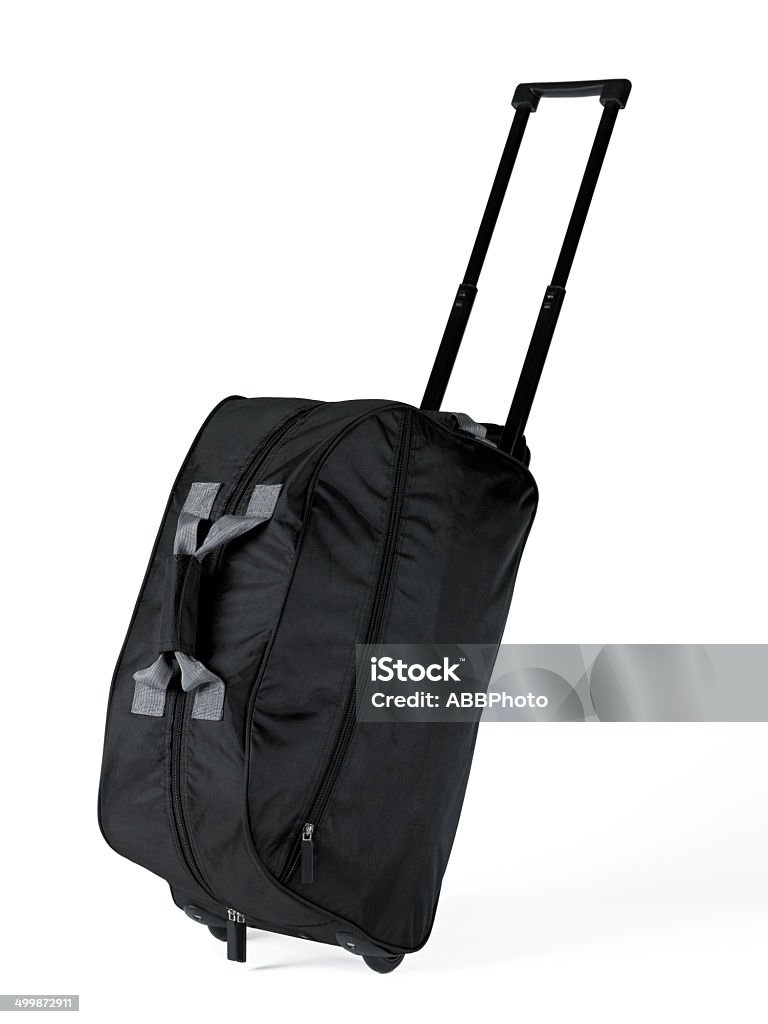Bag: (73, 66, 670, 978)
Handle: (418, 76, 640, 418)
